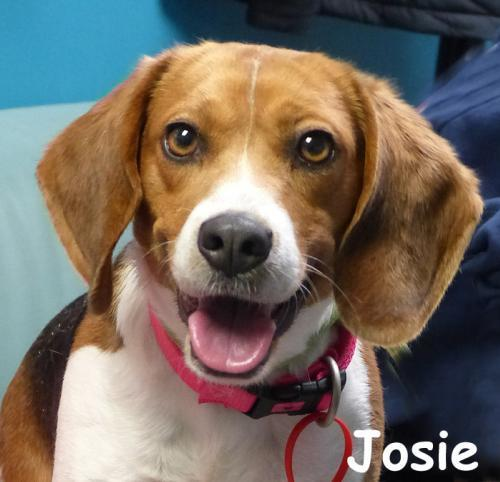dog: (1, 35, 486, 482)
